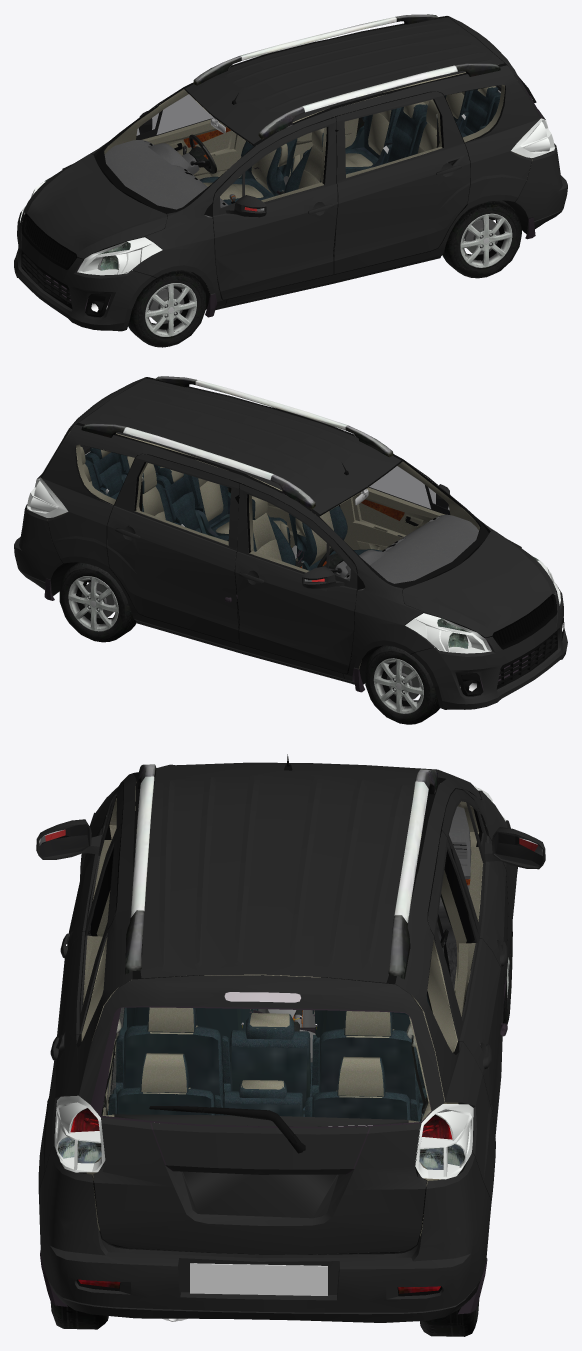
The model's file is ertiga.glb.
3 renders of one model, top to bottom at view 1: azimuth 30°, elevation 25°; view 2: azimuth 150°, elevation 25°; view 3: azimuth 270°, elevation 25°, orthographic. The views are drawn at different scales.
Visible parts, largest first — view 1: body_Body_d2_0, glass_mirror_all_cars_0, int_New_Material_2_d4_0, jok_New_Material_6_d3_0, blacks_black_int_0, wheel_New_Material_7_0, Ertiga_Dash_New_Material_5_d5_0, extra1_New_Material_d1_0, wheel_New_Material_8_0, light_New_Material_d6_0, _1ventila_Mat_yosemite_009_0, wheel_Mat_moonbeam_112_0 (+2 smaller); view 2: body_Body_d2_0, glass_mirror_all_cars_0, int_New_Material_2_d4_0, jok_New_Material_6_d3_0, blacks_black_int_0, Ertiga_Dash_New_Material_5_d5_0, wheel_New_Material_7_0, extra1_New_Material_d1_0, wheel_New_Material_8_0, light_New_Material_d6_0, _1ventila_Mat_yosemite_009_0, wheel_Mat_moonbeam_112_0 (+2 smaller); view 3: body_Body_d2_0, glass_mirror_all_cars_0, jok_New_Material_6_d3_0, int_New_Material_2_d4_0, extra1_New_Material_d1_0, light_New_Material_d6_0, numberplate_New_Material_6_d1_0, _1ventila_Mat_yosemite_009_0, body_Mat_yosemite_031_0, blacks_black_int_0, wheel_New_Material_7_0, light_head_light_0 (+3 smaller).
Boxes of the visible parts, box(x1,y1,x2,y2) form: body_Body_d2_0: box(14, 16, 567, 331); glass_mirror_all_cars_0: box(104, 76, 518, 209); int_New_Material_2_d4_0: box(104, 72, 539, 202); jok_New_Material_6_d3_0: box(199, 87, 500, 204); blacks_black_int_0: box(21, 16, 536, 317); wheel_New_Material_7_0: box(128, 200, 521, 347); Ertiga_Dash_New_Material_5_d5_0: box(104, 140, 235, 217); extra1_New_Material_d1_0: box(193, 14, 500, 139); wheel_New_Material_8_0: box(145, 213, 512, 336); light_New_Material_d6_0: box(20, 118, 555, 275); _1ventila_Mat_yosemite_009_0: box(21, 44, 500, 311); wheel_Mat_moonbeam_112_0: box(149, 219, 499, 323); body_Body_d2_0: box(14, 377, 567, 709); glass_mirror_all_cars_0: box(40, 445, 479, 583); int_New_Material_2_d4_0: box(47, 432, 480, 668); jok_New_Material_6_d3_0: box(81, 446, 381, 570); blacks_black_int_0: box(46, 377, 564, 696); Ertiga_Dash_New_Material_5_d5_0: box(333, 514, 478, 590); wheel_New_Material_7_0: box(59, 562, 439, 724); extra1_New_Material_d1_0: box(81, 376, 393, 509); wheel_New_Material_8_0: box(68, 576, 423, 713); light_New_Material_d6_0: box(26, 477, 560, 653); _1ventila_Mat_yosemite_009_0: box(85, 393, 563, 691); wheel_Mat_moonbeam_112_0: box(81, 582, 420, 700); body_Body_d2_0: box(36, 762, 545, 1322); glass_mirror_all_cars_0: box(39, 796, 542, 1125); jok_New_Material_6_d3_0: box(106, 994, 430, 1121); int_New_Material_2_d4_0: box(81, 782, 483, 1235); extra1_New_Material_d1_0: box(125, 764, 438, 979); light_New_Material_d6_0: box(54, 785, 506, 1179); numberplate_New_Material_6_d1_0: box(190, 1263, 327, 1295); _1ventila_Mat_yosemite_009_0: box(76, 782, 507, 1321); body_Mat_yosemite_031_0: box(40, 980, 507, 1314); blacks_black_int_0: box(38, 754, 517, 1296); wheel_New_Material_7_0: box(50, 922, 512, 1336); light_head_light_0: box(57, 1137, 464, 1293).
Size of what is drawn, in the model's own units: 10.71 by 4.28 by 4.93.
28 materials, 26 textured.
